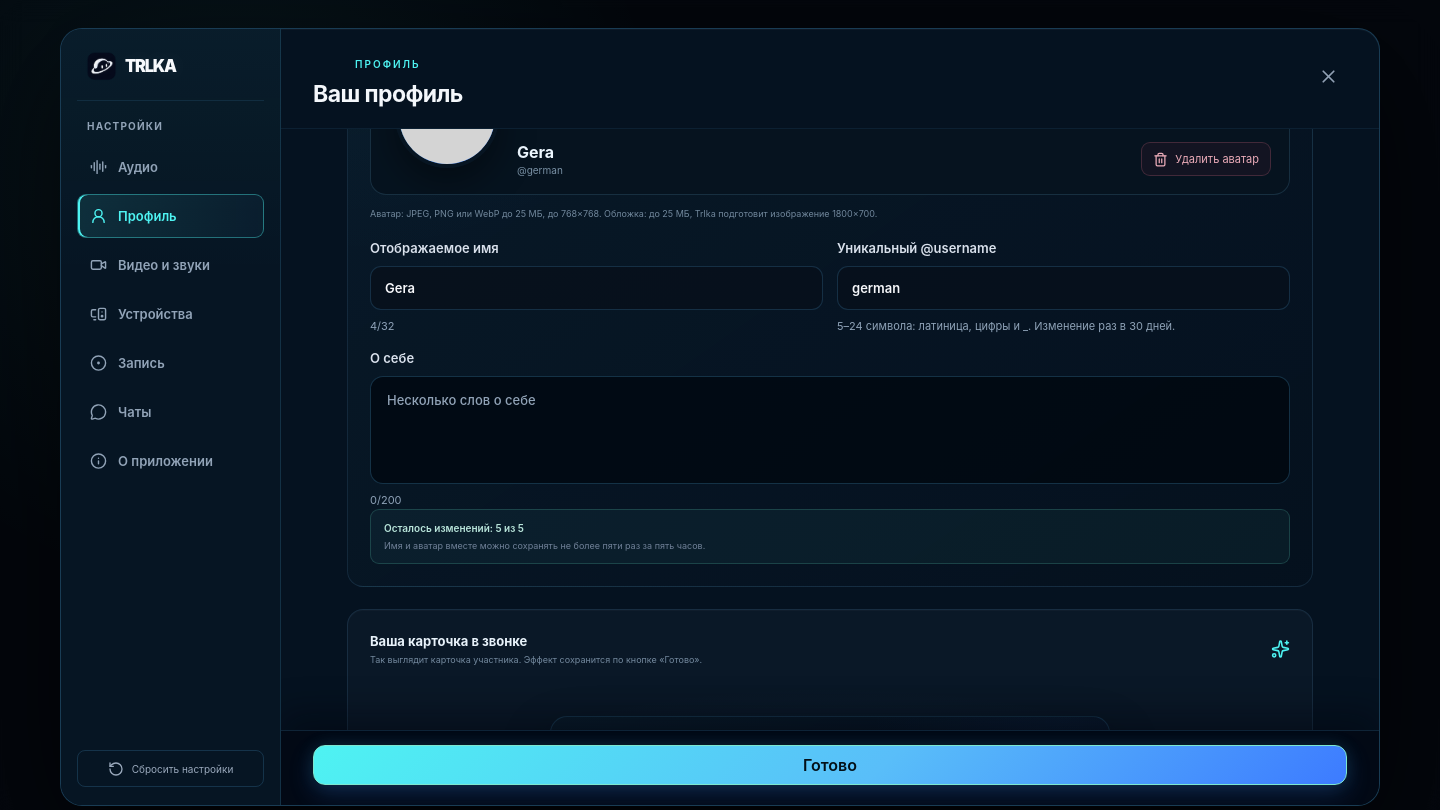
Test: SettingsPanel profile actions › keeps settings open and explains a failed profile save
(page scrolled)
In the text box labelled "О себе 0/200": (830, 430) [370,376,1290,484], type "Новая информация"
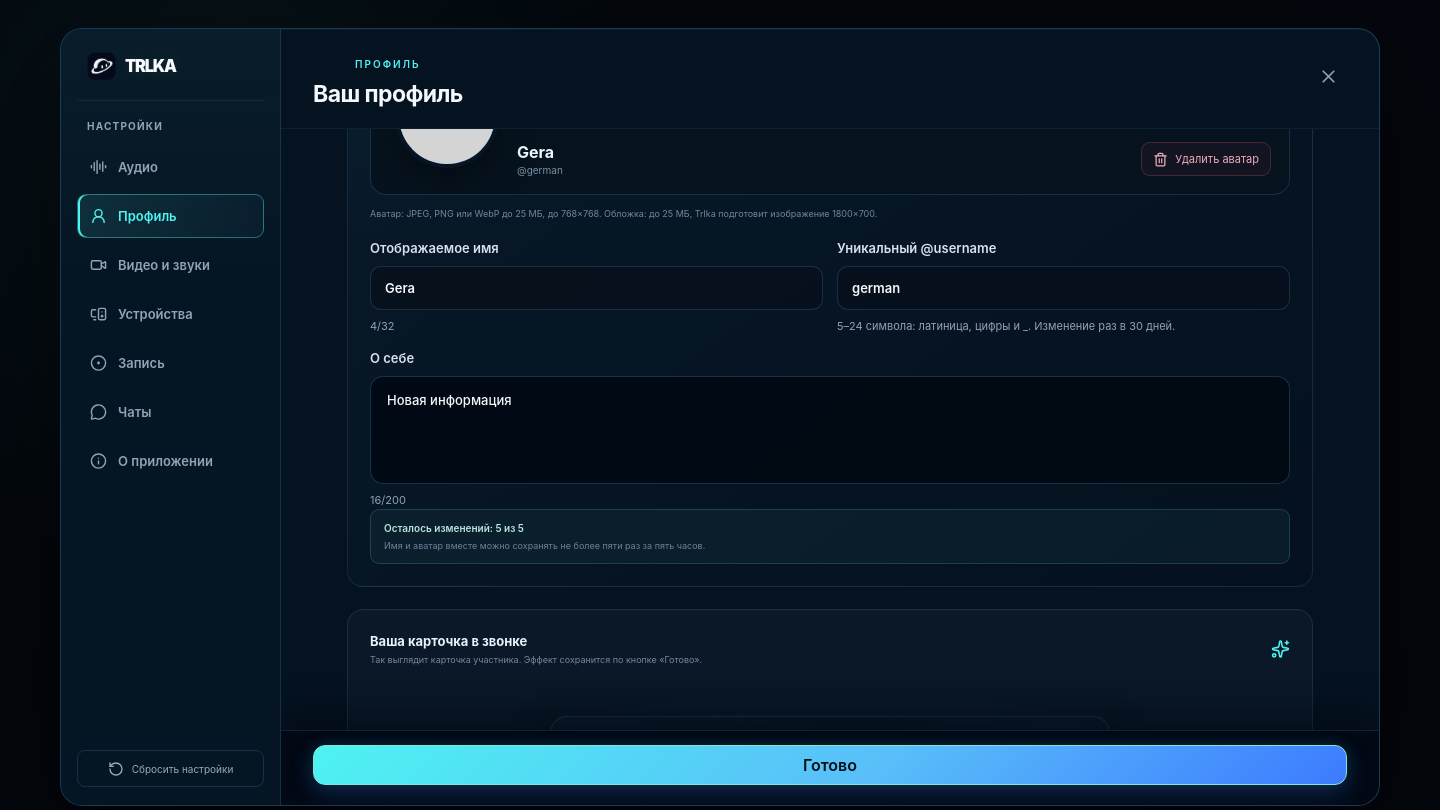
Click the button "Готово": click(830, 765) [313,745,1347,785]
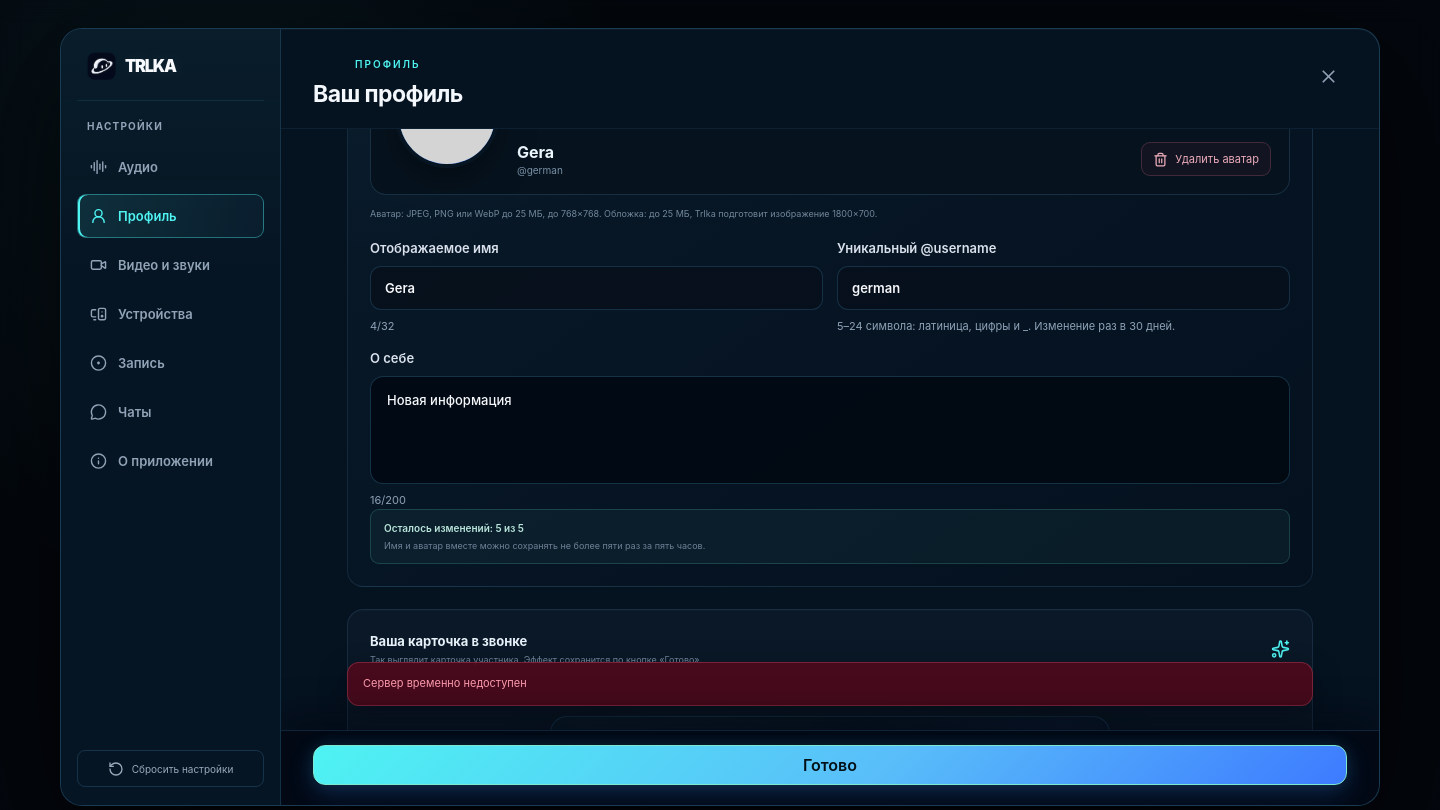
Now the text "Сервер временно недоступен" is shown, box [347,663,1313,706]
